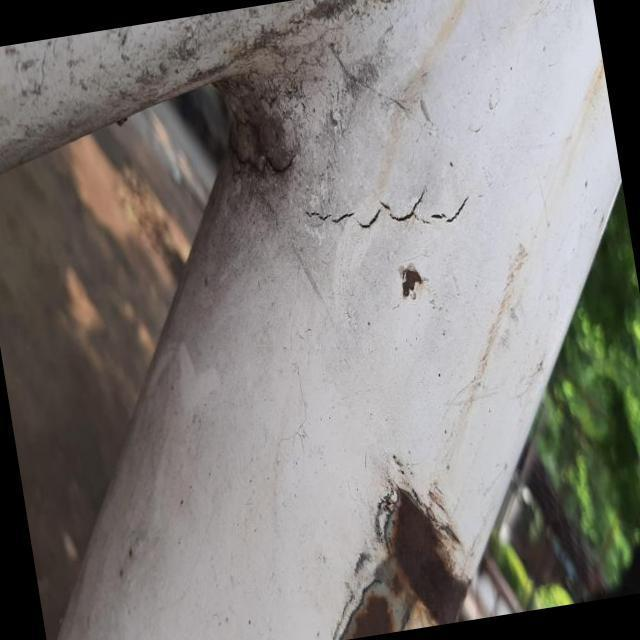defect: (303, 188, 476, 235)
